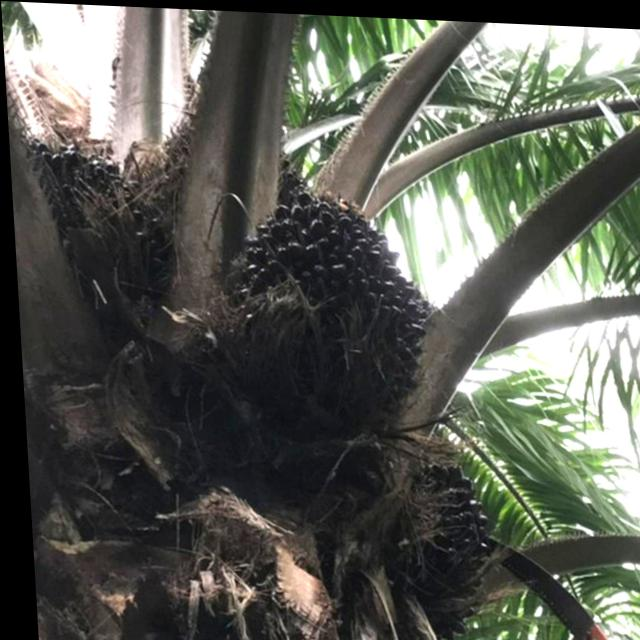ripe: (201, 165, 447, 439)
